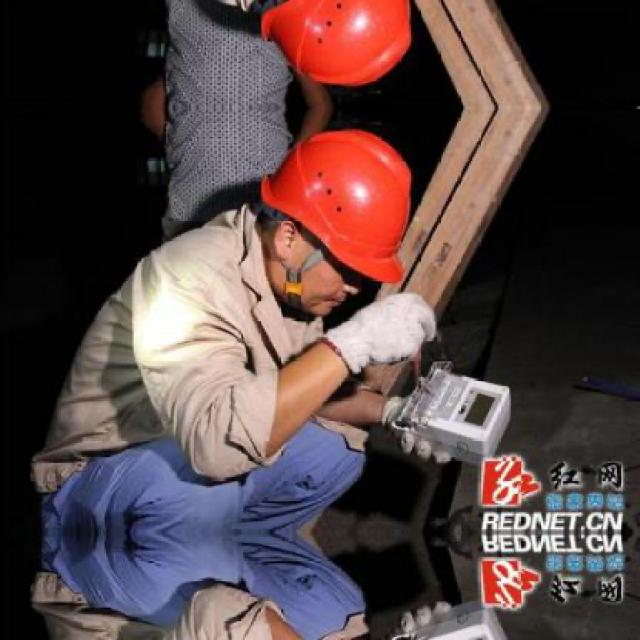helmet: (242, 114, 430, 314), (240, 0, 431, 100)
